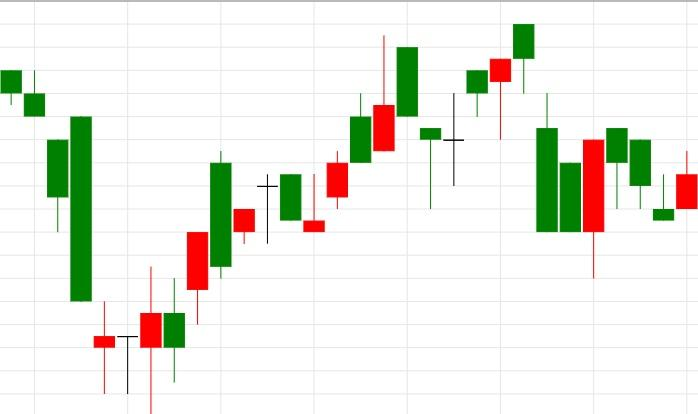bullish_engulfing_rise: (514, 24, 605, 279)
